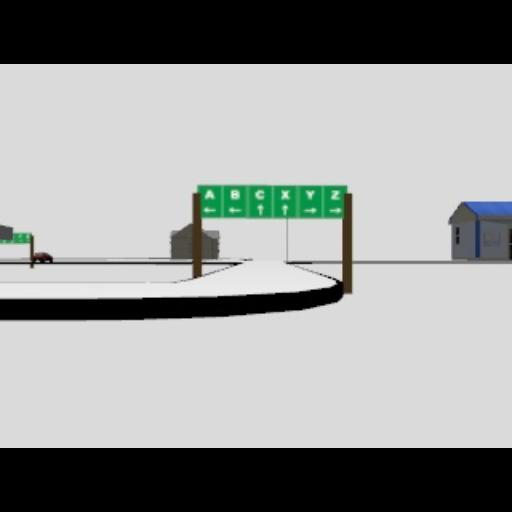A: (204, 189, 214, 199)
B: (228, 189, 240, 199)
C: (254, 188, 264, 200)
Left: (203, 205, 217, 213), (227, 207, 241, 213)
Right: (303, 207, 317, 213), (328, 207, 340, 213)
Straight: (256, 204, 264, 216), (280, 204, 288, 214)
X: (280, 189, 290, 199)
Y: (304, 189, 316, 199)
Z: (329, 188, 339, 200)
